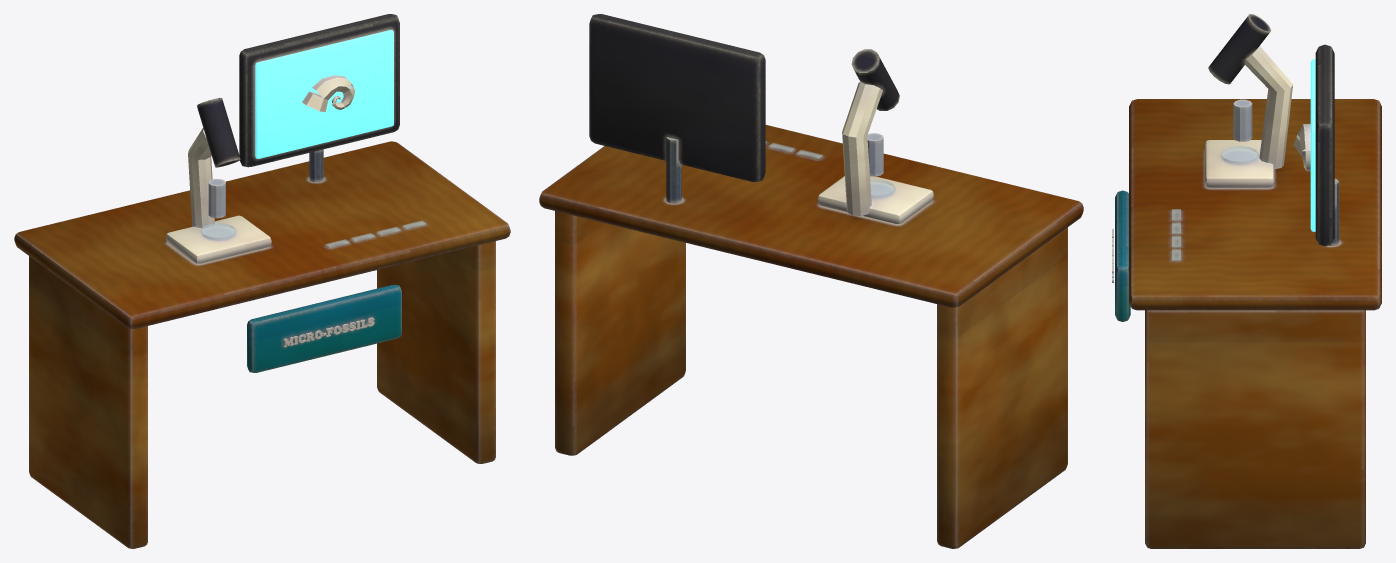
File: microscope_station.glb
3 renders of one model, left to right at view 1: azimuth 30°, elevation 25°; view 2: azimuth 150°, elevation 25°; view 3: azimuth 270°, elevation 25°, orthographic. The views are drawn at different scales.
Visible parts, largest first — view 1: SM_MicroscopeStation; view 2: SM_MicroscopeStation; view 3: SM_MicroscopeStation.
Part boxes in pixels (left/top/right/bottom): SM_MicroscopeStation: left=14, top=14, right=510, bottom=548; SM_MicroscopeStation: left=539, top=14, right=1083, bottom=548; SM_MicroscopeStation: left=1112, top=14, right=1381, bottom=548.
Size of what is drawn, in the model's own units: 1.5 by 1.47 by 0.854.
Materials: 3 (1 with a texture image).
